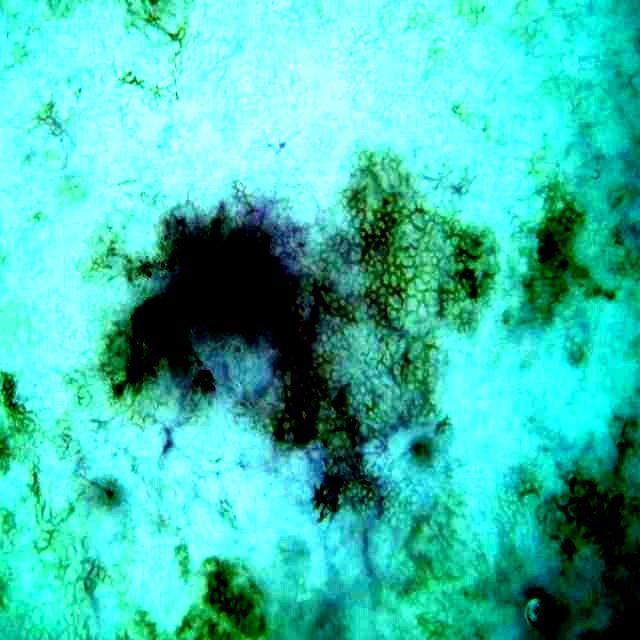BCC: (103, 179, 425, 519)
